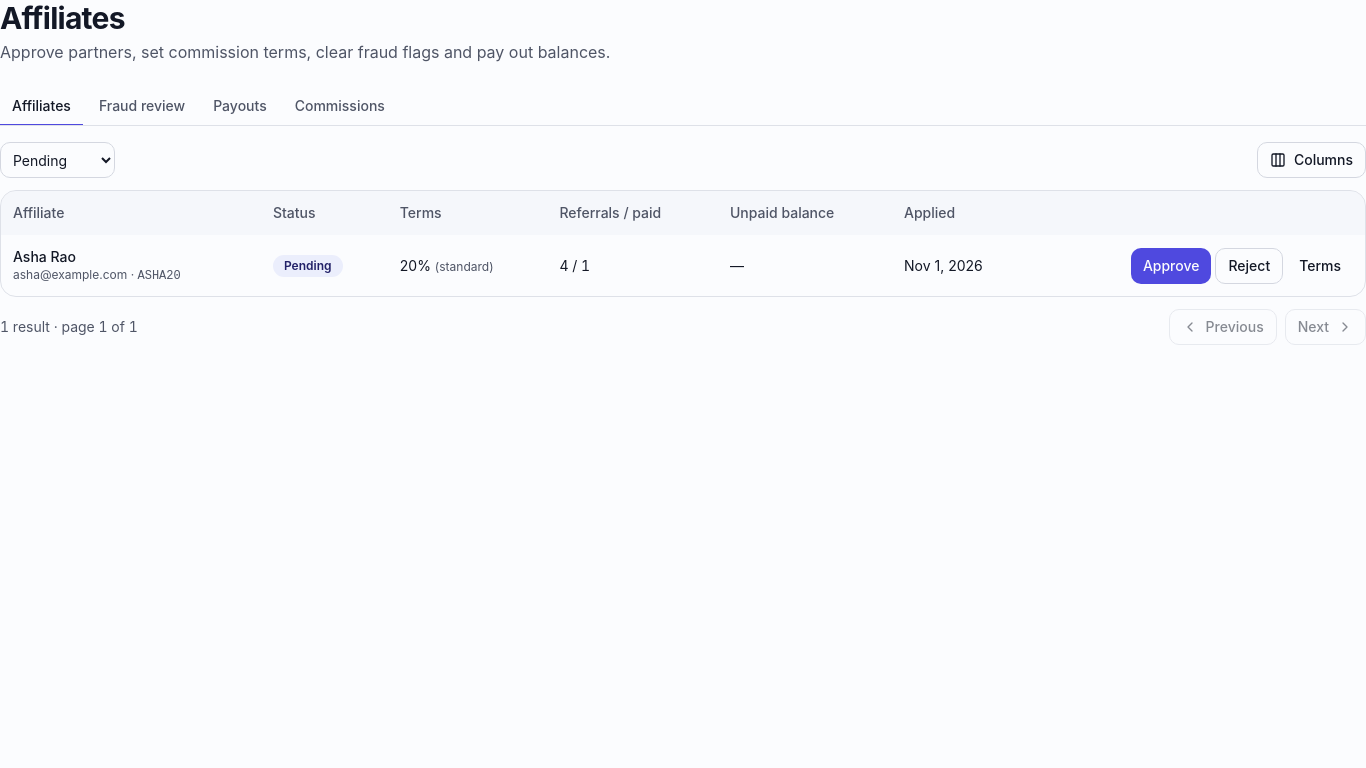
Test case: affiliates › requires a reason to reject
Click the button "Reject" at coordinates (1249, 266), box 1216,248 -> 1283,284
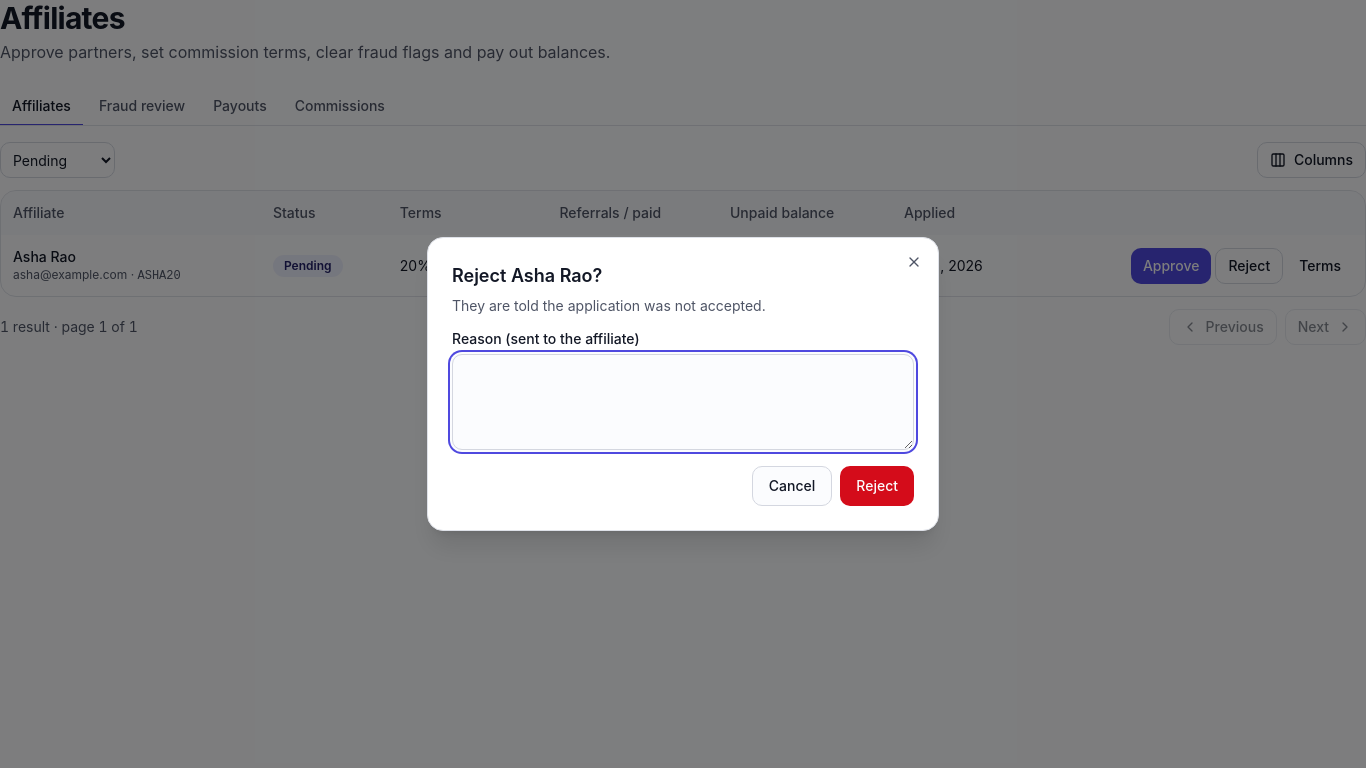
Click the button "Reject" at coordinates (877, 486), box 840,466 -> 914,506
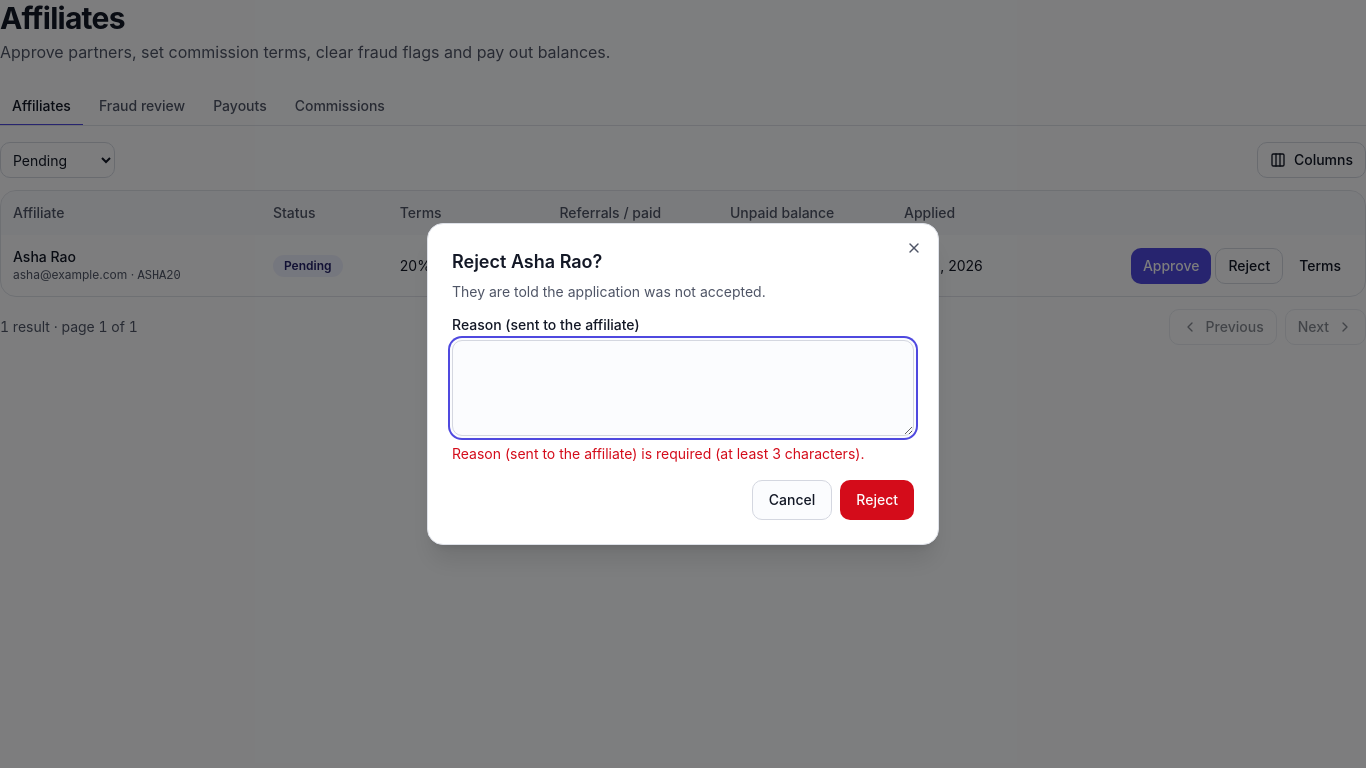
Check: the message "Reason (sent to the affiliate) is required (at least 3 characters)." is shown, box 452,444 -> 914,464
